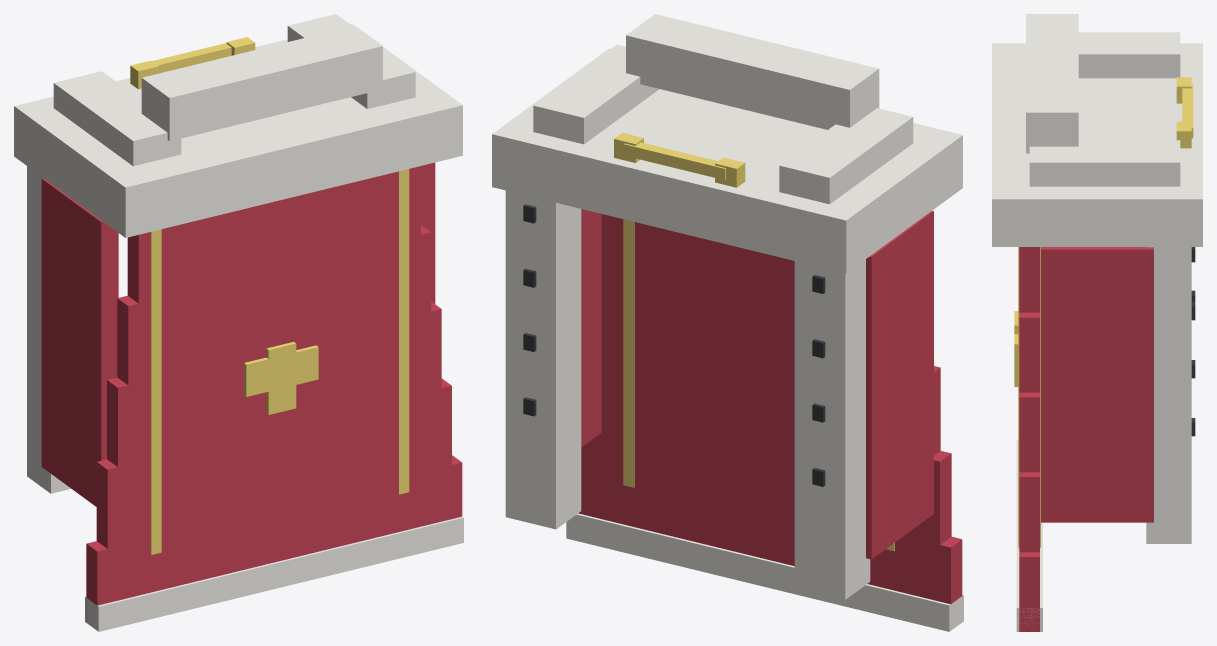
Rendered from manto_arminho.glb.
3 views of the same model, side by side, from view 1: azimuth 30°, elevation 25°; view 2: azimuth 150°, elevation 25°; view 3: azimuth 270°, elevation 25° (orthographic). The views are drawn at different scales.
Parts seen in each view (by area): view 1: manto_arminho; view 2: manto_arminho; view 3: manto_arminho.
Boxes of the visible parts, x1,y1,x2,y2 form: manto_arminho: (14,14,463,631); manto_arminho: (492,14,963,631); manto_arminho: (992,14,1202,631).
Bounding box in the file's own units: 1.06 × 1.42 × 0.56.
